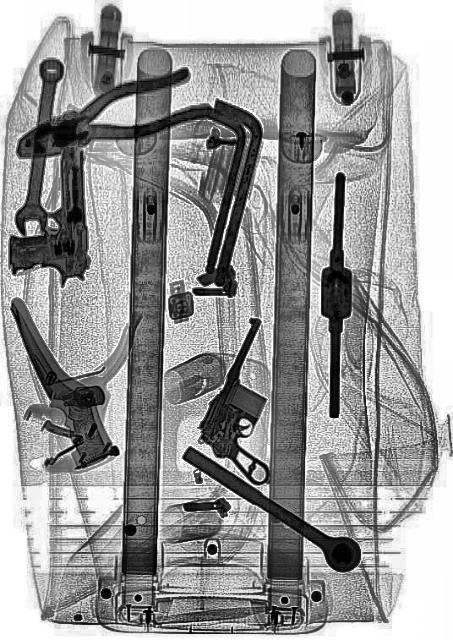Gun: (192, 311, 320, 489), (5, 144, 90, 288)
Pliers: (9, 58, 210, 178)
Wrench: (11, 54, 65, 238)
